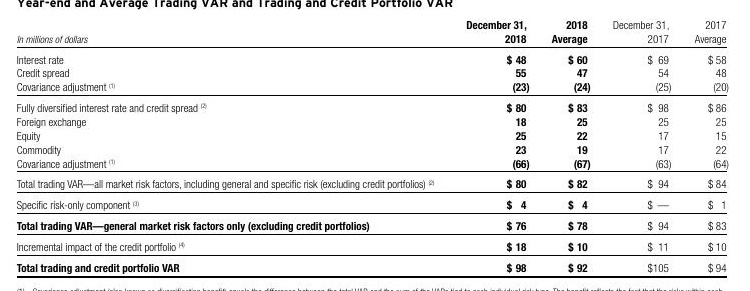table: (0, 0, 750, 291)
